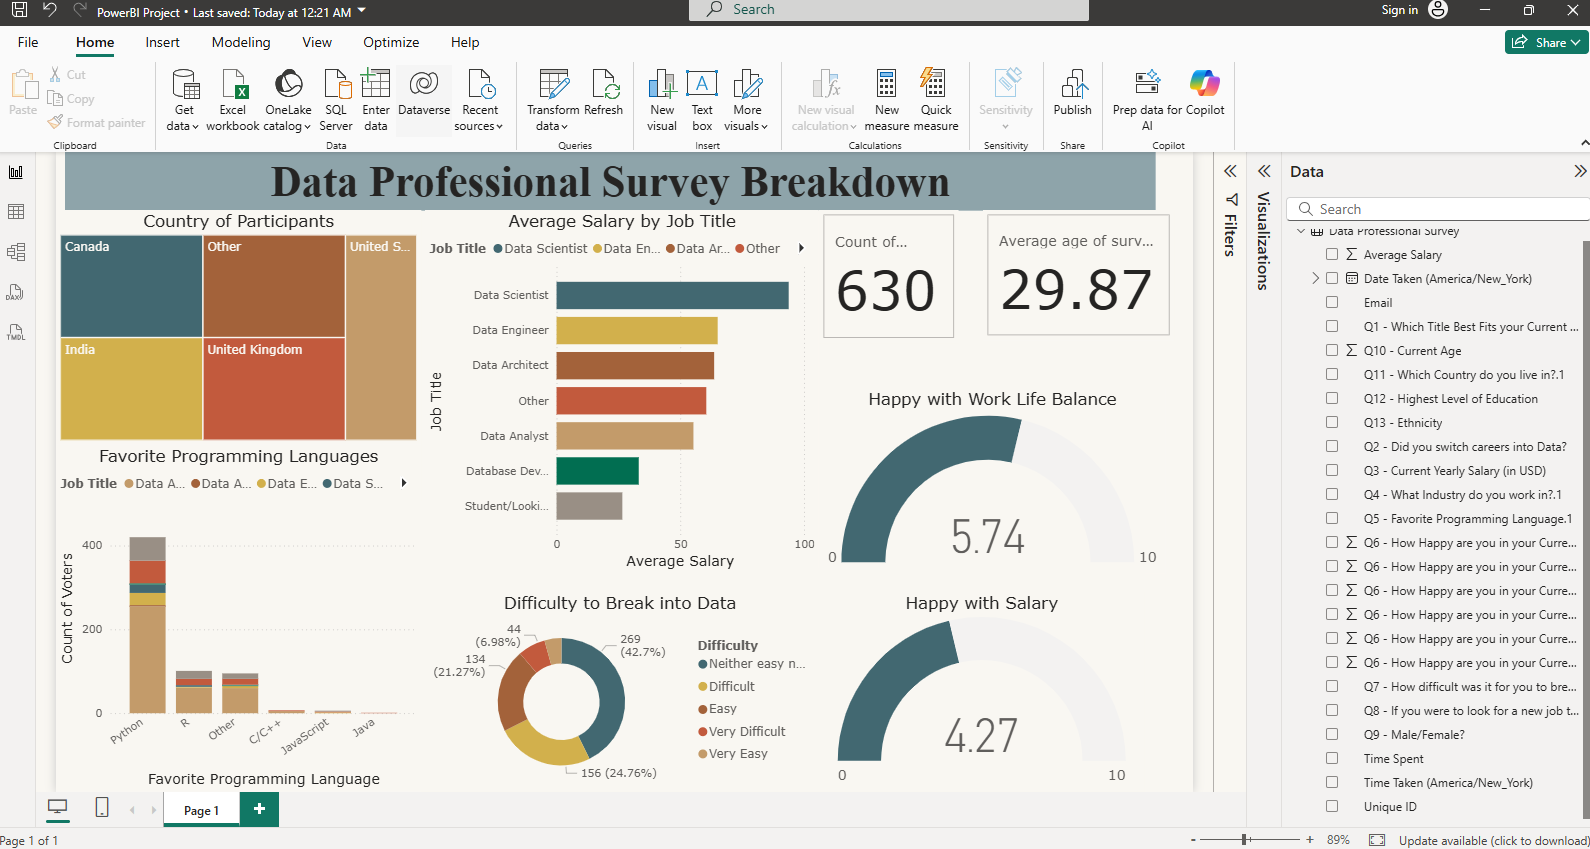

The dashboard page shown, as its layout file describes it:
{"tool":"powerbi","page":{"name":"Page 1","canvas":[1280,720],"ordinal":0},"visuals":[{"type":"textbox","box":[10.3,0,1227.3,65.5],"z":0},{"type":"cardVisual","fields":{"Data":["Count(Data Professional Survey.Unique ID)"]},"box":[858.8,65.3,157.2,149.8],"z":1000},{"type":"cardVisual","fields":{"Data":["Avg(Data Professional Survey.Q10 - Current Age)"]},"box":[1042.7,65.3,215.1,146.8],"z":2000},{"type":"barChart","title":"Average Salary by Job Title","fields":{"Category":["Data Professional Survey.Q1 - Which Title Best Fits your Current Role?.1"],"Y":["Avg(Data Professional Survey.Average Salary)"],"Series":["Data Professional Survey.Q1 - Which Title Best Fits your Current Role?.1"]},"box":[415.3,65.3,443.5,409.4],"z":3000},{"type":"columnChart","title":"Favorite Programming Languages","fields":{"Category":["Data Professional Survey.Q5 - Favorite Programming Language.1"],"Y":["CountNonNull(Data Professional Survey.Unique ID)"],"Series":["Data Professional Survey.Q1 - Which Title Best Fits your Current Role?.1"]},"box":[0,329.3,410.8,390.1],"z":4000},{"type":"treemap","title":"Country of Participants","fields":{"Group":["Data Professional Survey.Q11 - Which Country do you live in?.1"],"Values":["Count(Data Professional Survey.Q11 - Which Country do you live in?.1)"]},"box":[0,65.3,410.8,264],"z":5000},{"type":"gauge","title":"Happy with Salary","fields":{"Y":["Avg(Data Professional Survey.Q6 - How Happy are you in your Current Position with the following? (Salary))"],"MinValue":["Min(Data Professional Survey.Q6 - How Happy are you in your Current Position with the following? (Salary))1"],"MaxValue":["Max(Data Professional Survey.Q6 - How Happy are you in your Current Position with the following? (Salary))2"]},"box":[858.8,495.4,366.3,224],"z":6000},{"type":"gauge","title":"Happy with Work Life Balance","fields":{"Y":["Avg(Data Professional Survey.Q6 - How Happy are you in your Current Position with the following? (Work/Life Balance))"],"MinValue":["Min(Data Professional Survey.Q6 - How Happy are you in your Current Position with the following? (Work/Life Balance))1"],"MaxValue":["Max(Data Professional Survey.Q6 - How Happy are you in your Current Position with the following? (Work/Life Balance))2"]},"box":[858.8,265.5,390.1,209.1],"z":7000},{"type":"donutChart","title":"Difficulty to Break into Data","fields":{"Category":["Data Professional Survey.Q7 - How difficult was it for you to break into Data?"],"Y":["CountNonNull(Data Professional Survey.Q7 - How difficult was it for you to break into Data?)"]},"box":[410.8,495.4,447.9,224],"z":8000}]}

Visuals, with their boxes on the page's 1280x720 design canvas (x1, y1, x2, y2). These are canvas units, not pixel positions in the 1590x849 screenshot, which may show the page scaled, cropped or inside an application window:
textbox: BBox(10, 0, 1238, 66)
cardVisual - Count(Data Professional Survey.Unique ID): BBox(859, 65, 1016, 215)
cardVisual - Avg(Data Professional Survey.Q10 - Current Age): BBox(1043, 65, 1258, 212)
"Average Salary by Job Title" barChart: BBox(415, 65, 859, 475)
"Favorite Programming Languages" columnChart: BBox(0, 329, 411, 719)
"Country of Participants" treemap: BBox(0, 65, 411, 329)
"Happy with Salary" gauge: BBox(859, 495, 1225, 719)
"Happy with Work Life Balance" gauge: BBox(859, 266, 1249, 475)
"Difficulty to Break into Data" donutChart: BBox(411, 495, 859, 719)
